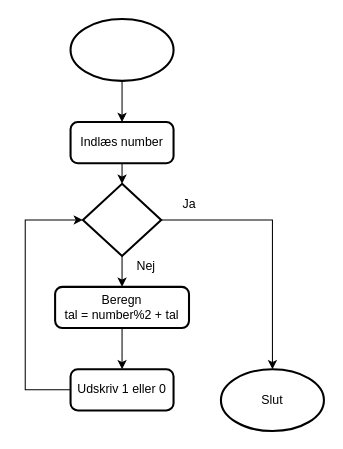
Image size: 343x449. Some labels were removed from this diagram. Each missing label, with the centre of its shape:
"R>0" goes at point (121, 219).
"Start" goes at point (121, 49).
